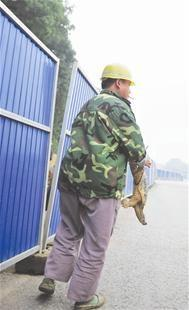helmet: (101, 65, 139, 85)
